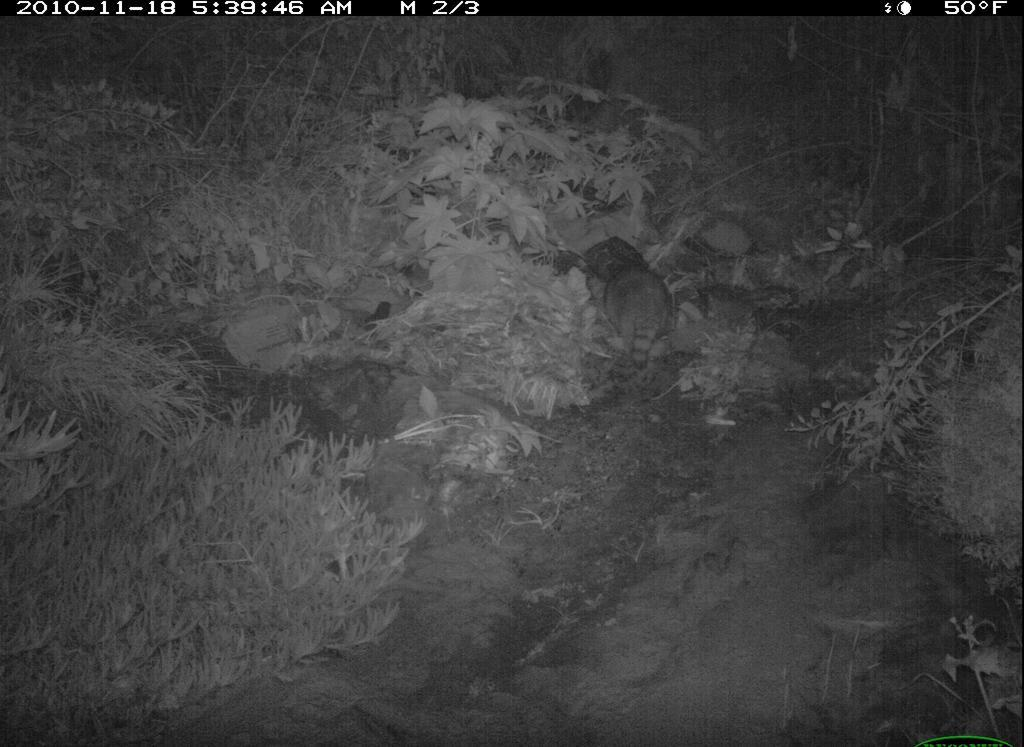raccoon: (586, 233, 700, 373)
